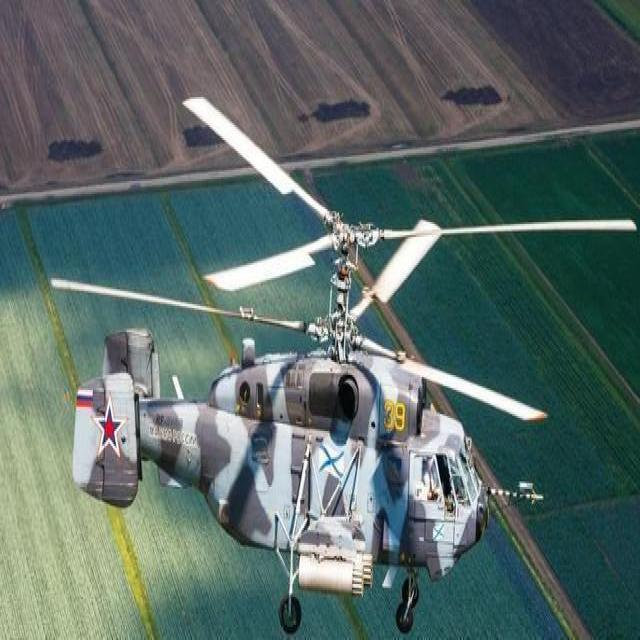MIL_HELO: (49, 94, 640, 633)
